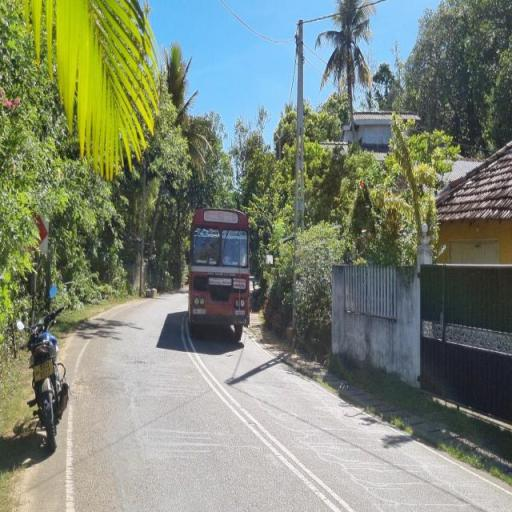double_white_line: (182, 322, 354, 510)
